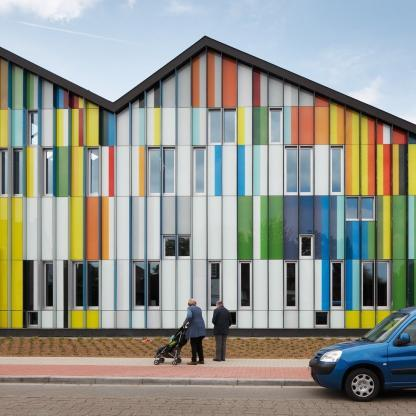Building Outline: (0, 35, 416, 337)
Dont: (308, 304, 416, 402), (153, 298, 206, 365), (211, 301, 233, 362)
Facade: (0, 134, 416, 337)
Floor Slab: (1, 227, 416, 231)
Ground Floor: (1, 231, 416, 337)
Top Floor: (0, 46, 416, 227)
Window: (284, 146, 297, 195), (300, 146, 313, 195), (193, 146, 206, 195), (162, 146, 175, 195), (147, 146, 160, 195), (41, 147, 54, 196), (12, 147, 25, 196), (239, 261, 252, 309), (208, 261, 221, 309), (377, 261, 390, 308), (362, 261, 375, 308), (331, 146, 343, 195), (87, 147, 99, 196), (285, 261, 297, 309), (148, 261, 160, 309), (133, 261, 145, 309), (87, 262, 99, 310), (331, 261, 343, 308), (72, 262, 83, 310), (42, 262, 53, 310), (208, 109, 221, 144), (223, 109, 236, 144), (270, 108, 282, 144), (27, 110, 39, 146), (0, 147, 8, 196), (361, 196, 374, 220), (346, 196, 359, 220), (162, 234, 175, 258), (300, 235, 313, 258), (178, 234, 190, 258), (315, 312, 328, 327), (27, 311, 38, 328), (224, 312, 236, 327)
